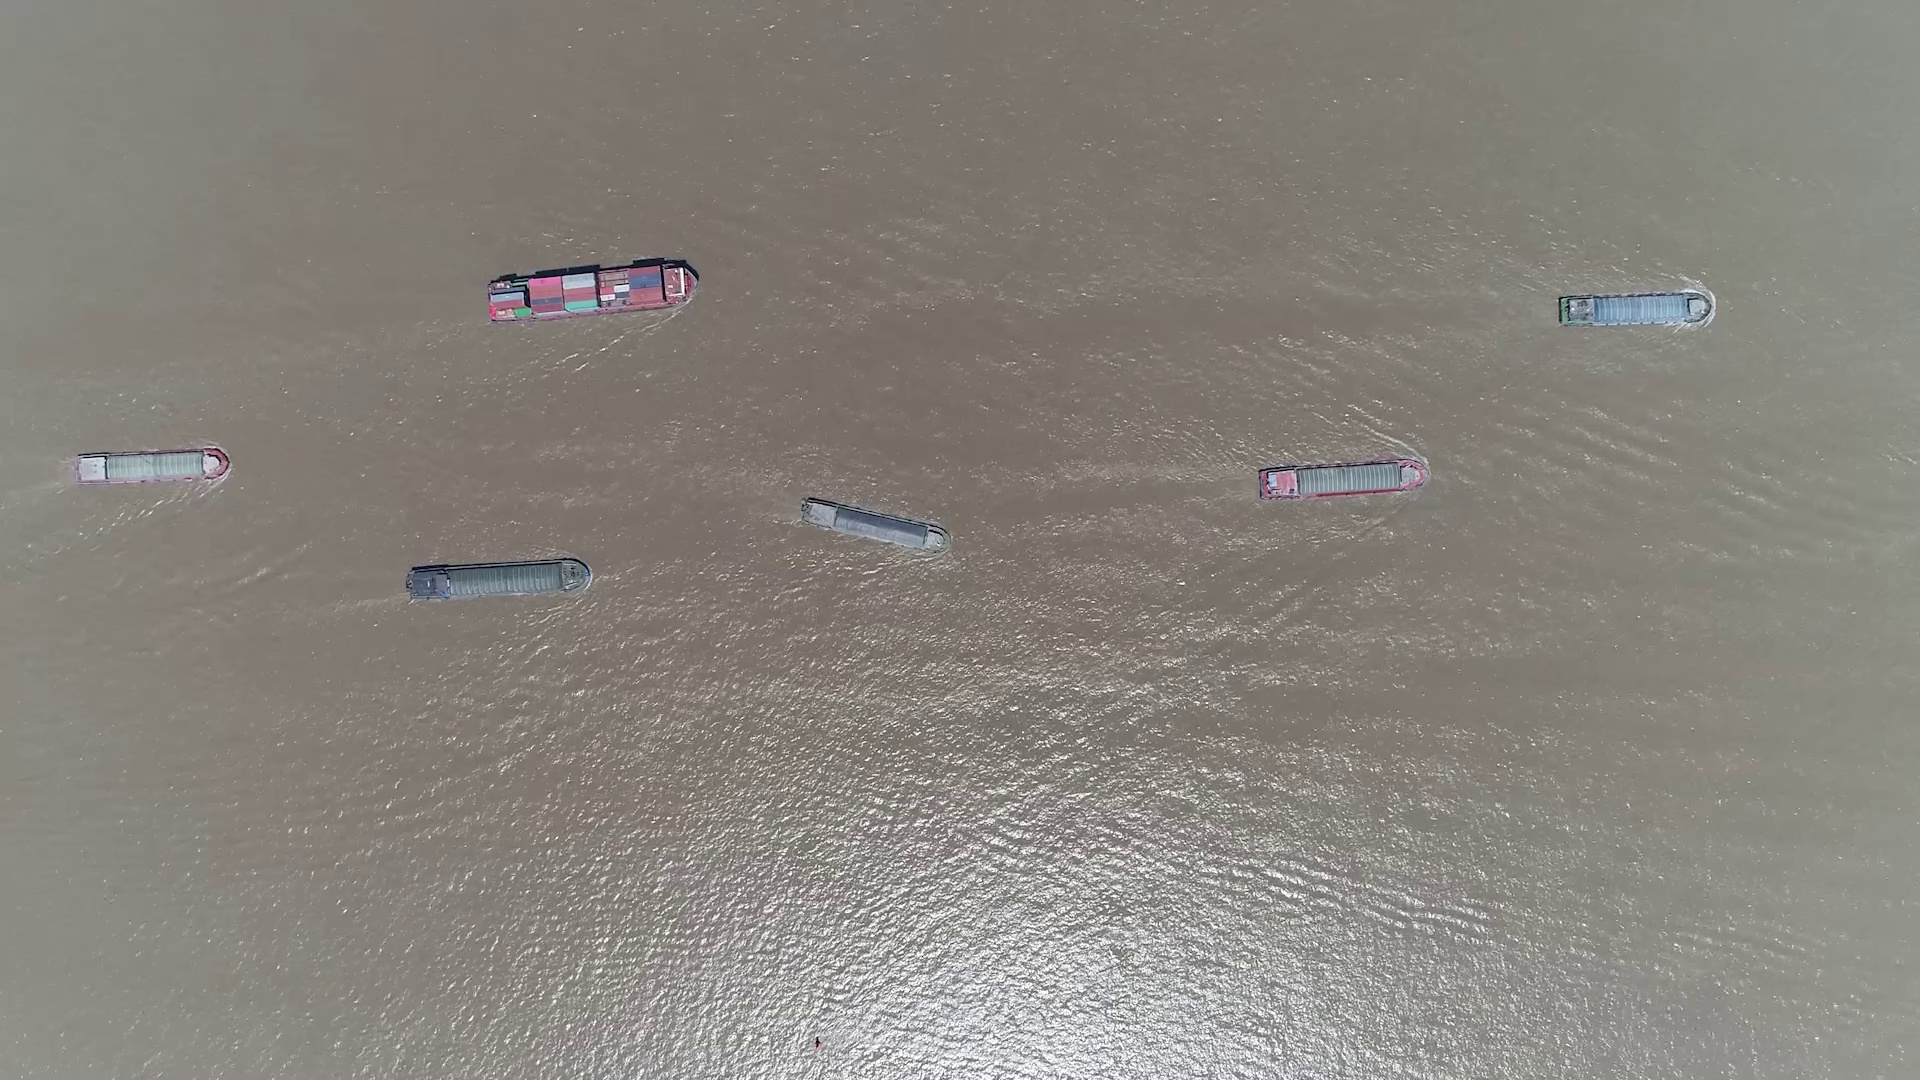ship: (487, 262, 699, 320), (799, 497, 949, 553), (406, 556, 589, 601), (1261, 458, 1429, 500), (74, 448, 229, 484), (1560, 293, 1712, 327)
